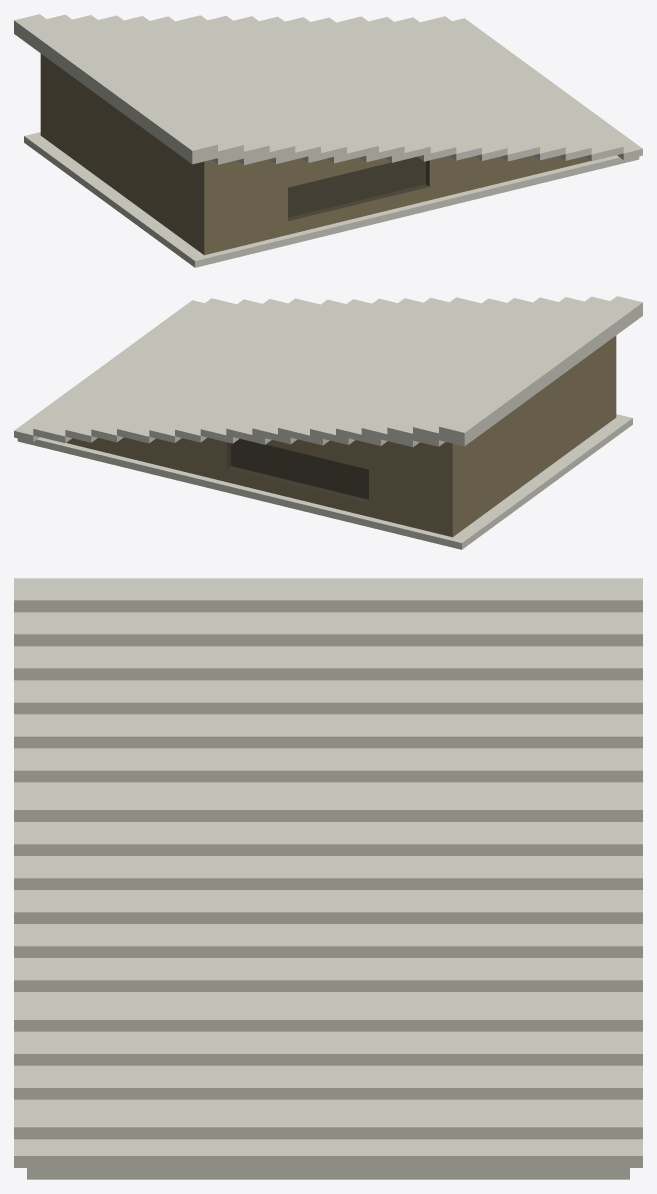
File: camper_van_pop_top.glb
The picture shows the model from 3 angles, top to bottom: view 1: azimuth 30°, elevation 25°; view 2: azimuth 150°, elevation 25°; view 3: azimuth 270°, elevation 25°; orthographic projection. The views are drawn at different scales.
Visible parts, largest first — view 1: body:compound; view 2: body:compound; view 3: body:compound.
Boxes of the visible parts, x1,y1,x2,y2 form: body:compound: (14, 14, 642, 267); body:compound: (14, 296, 642, 549); body:compound: (14, 578, 642, 1179).
Bounding box in the file's own units: 2.19 × 0.5625 × 1.5.
